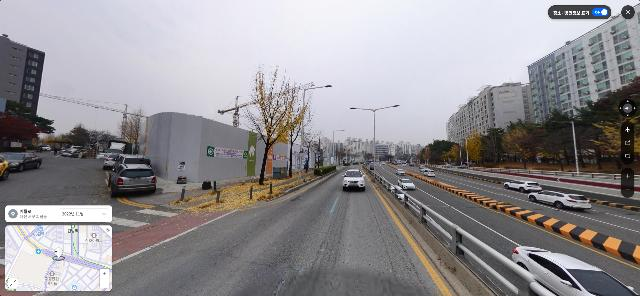ginkgo: (236, 59, 312, 186)
other: (297, 95, 321, 175), (312, 123, 328, 168)
